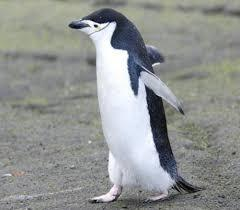chinstrap: (47, 5, 209, 208)
